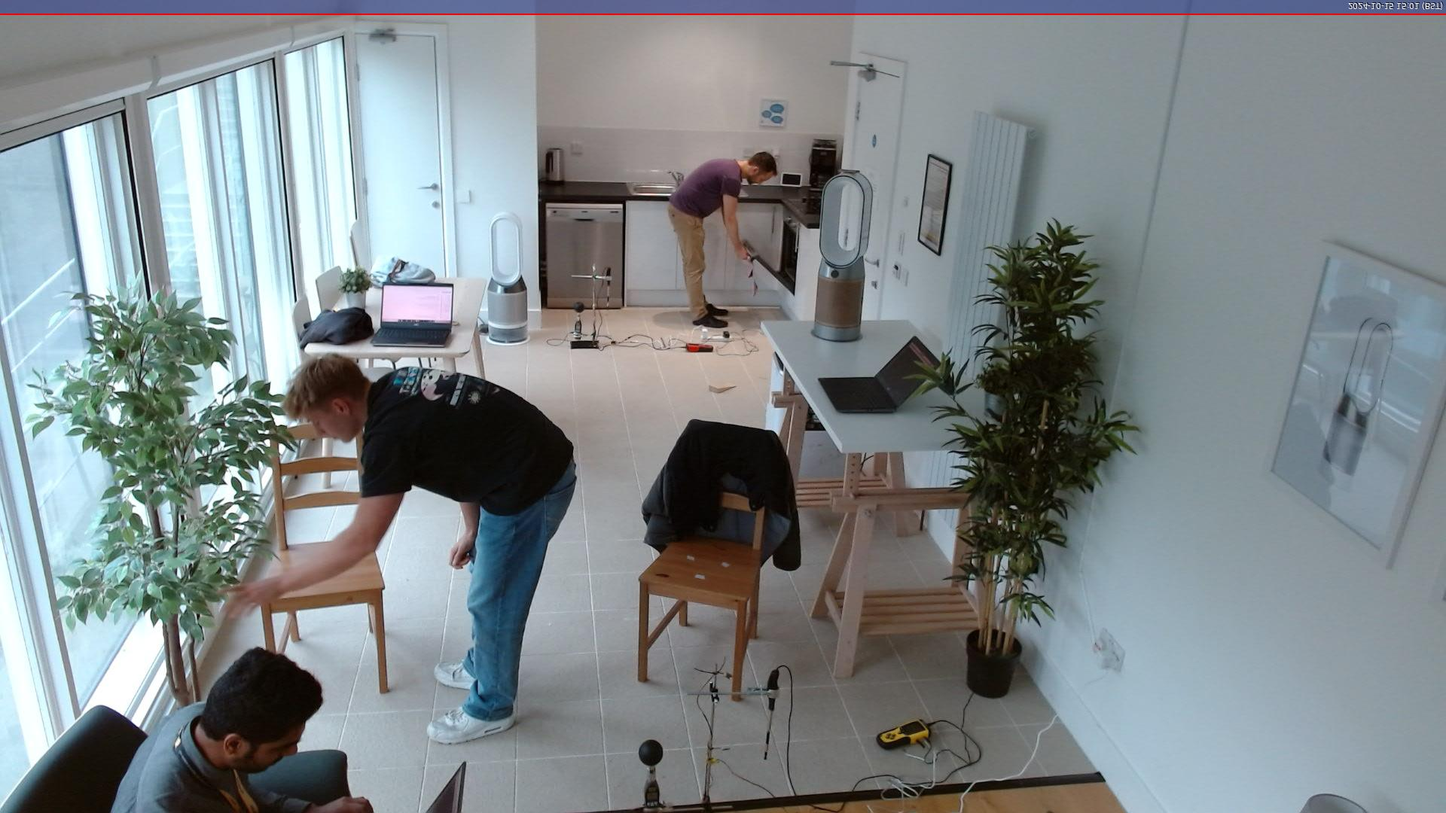long sleeve shirt: (110, 698, 311, 813)
short sleeve shirt: (354, 363, 576, 518), (669, 155, 743, 221)
trousers: (461, 454, 579, 728), (665, 199, 707, 321)
